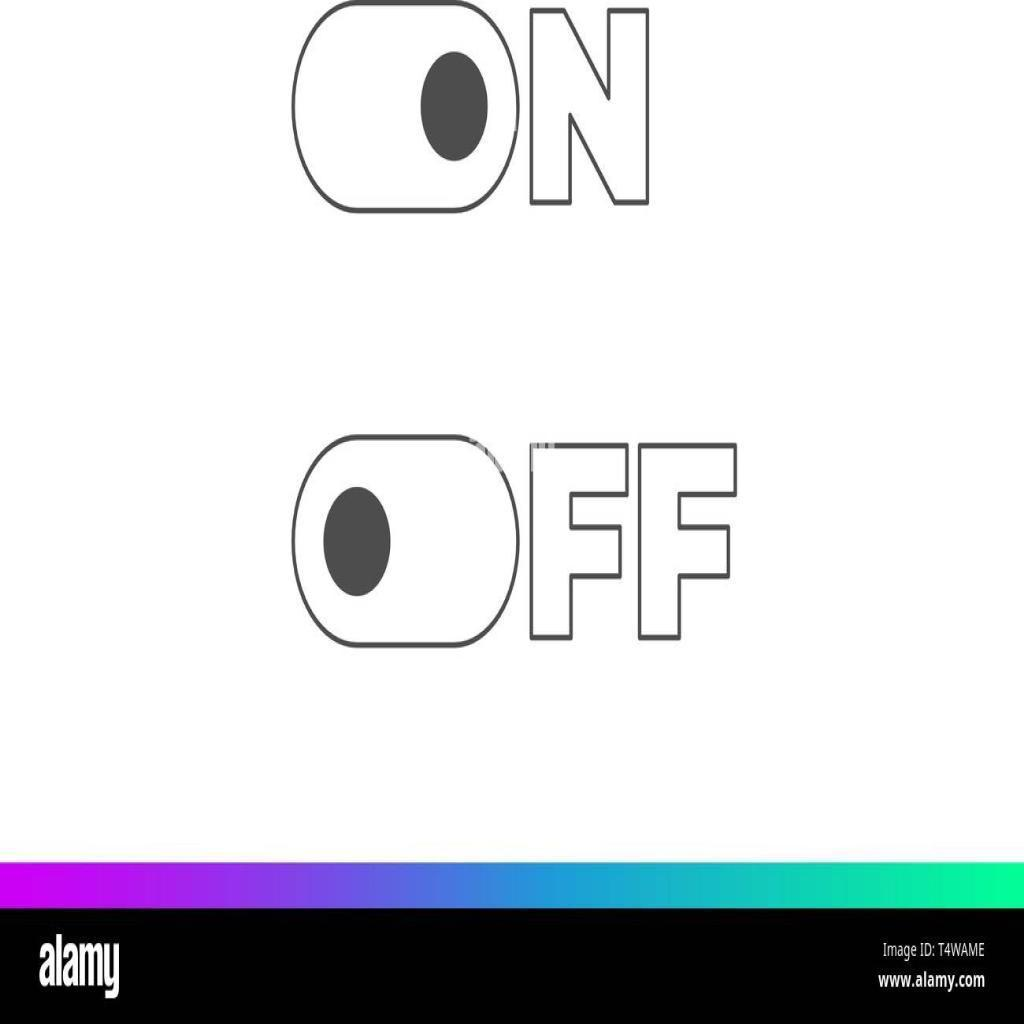switch: (292, 434, 522, 651), (291, 1, 522, 216)
